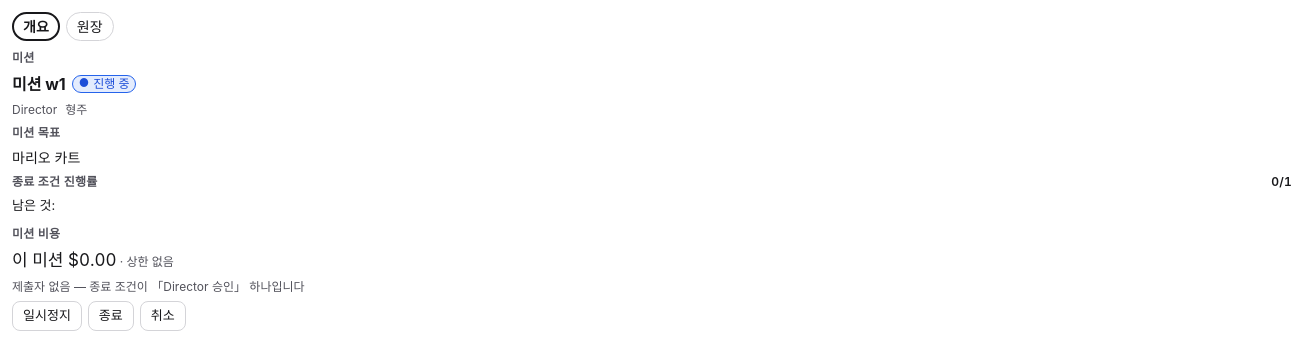
Test: WorkPanel — 「원장」 탭은 그 미션에 원장 항목이 하나라도 있을 때만 › 항목이 있으면 「개요 · 원장」(카드가 없어도) — 원장 탭을 누르면 목록, 쓰기 폼·입력이 없다
Click the tab with test id "work-panel-tab-ledger": (90, 26) [66,12,114,41]
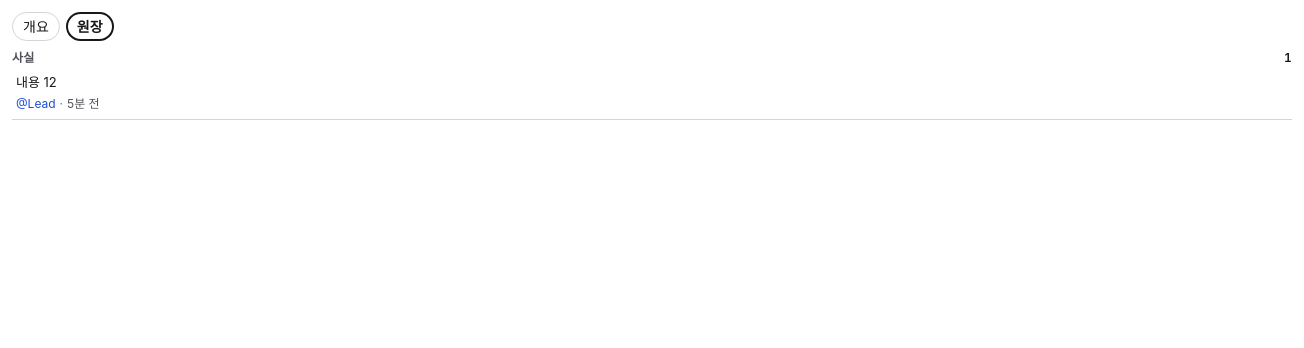
Expected: the element with test id "ledger" is shown, [12,49,1292,120]
